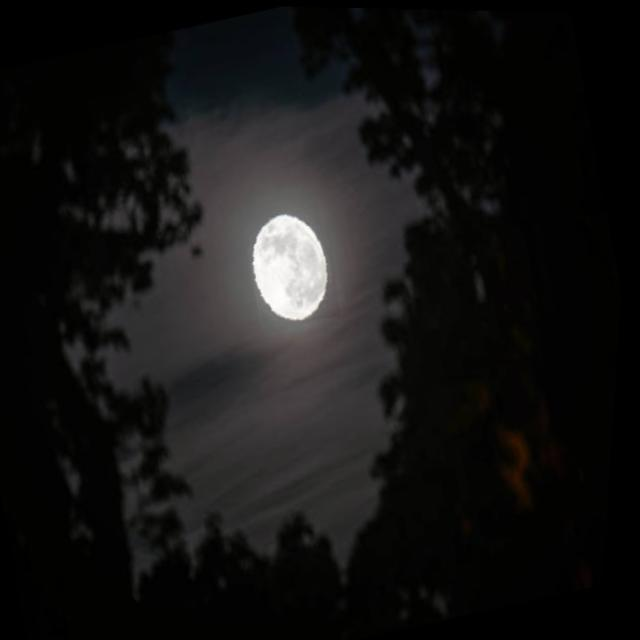moon: (239, 201, 357, 333)
